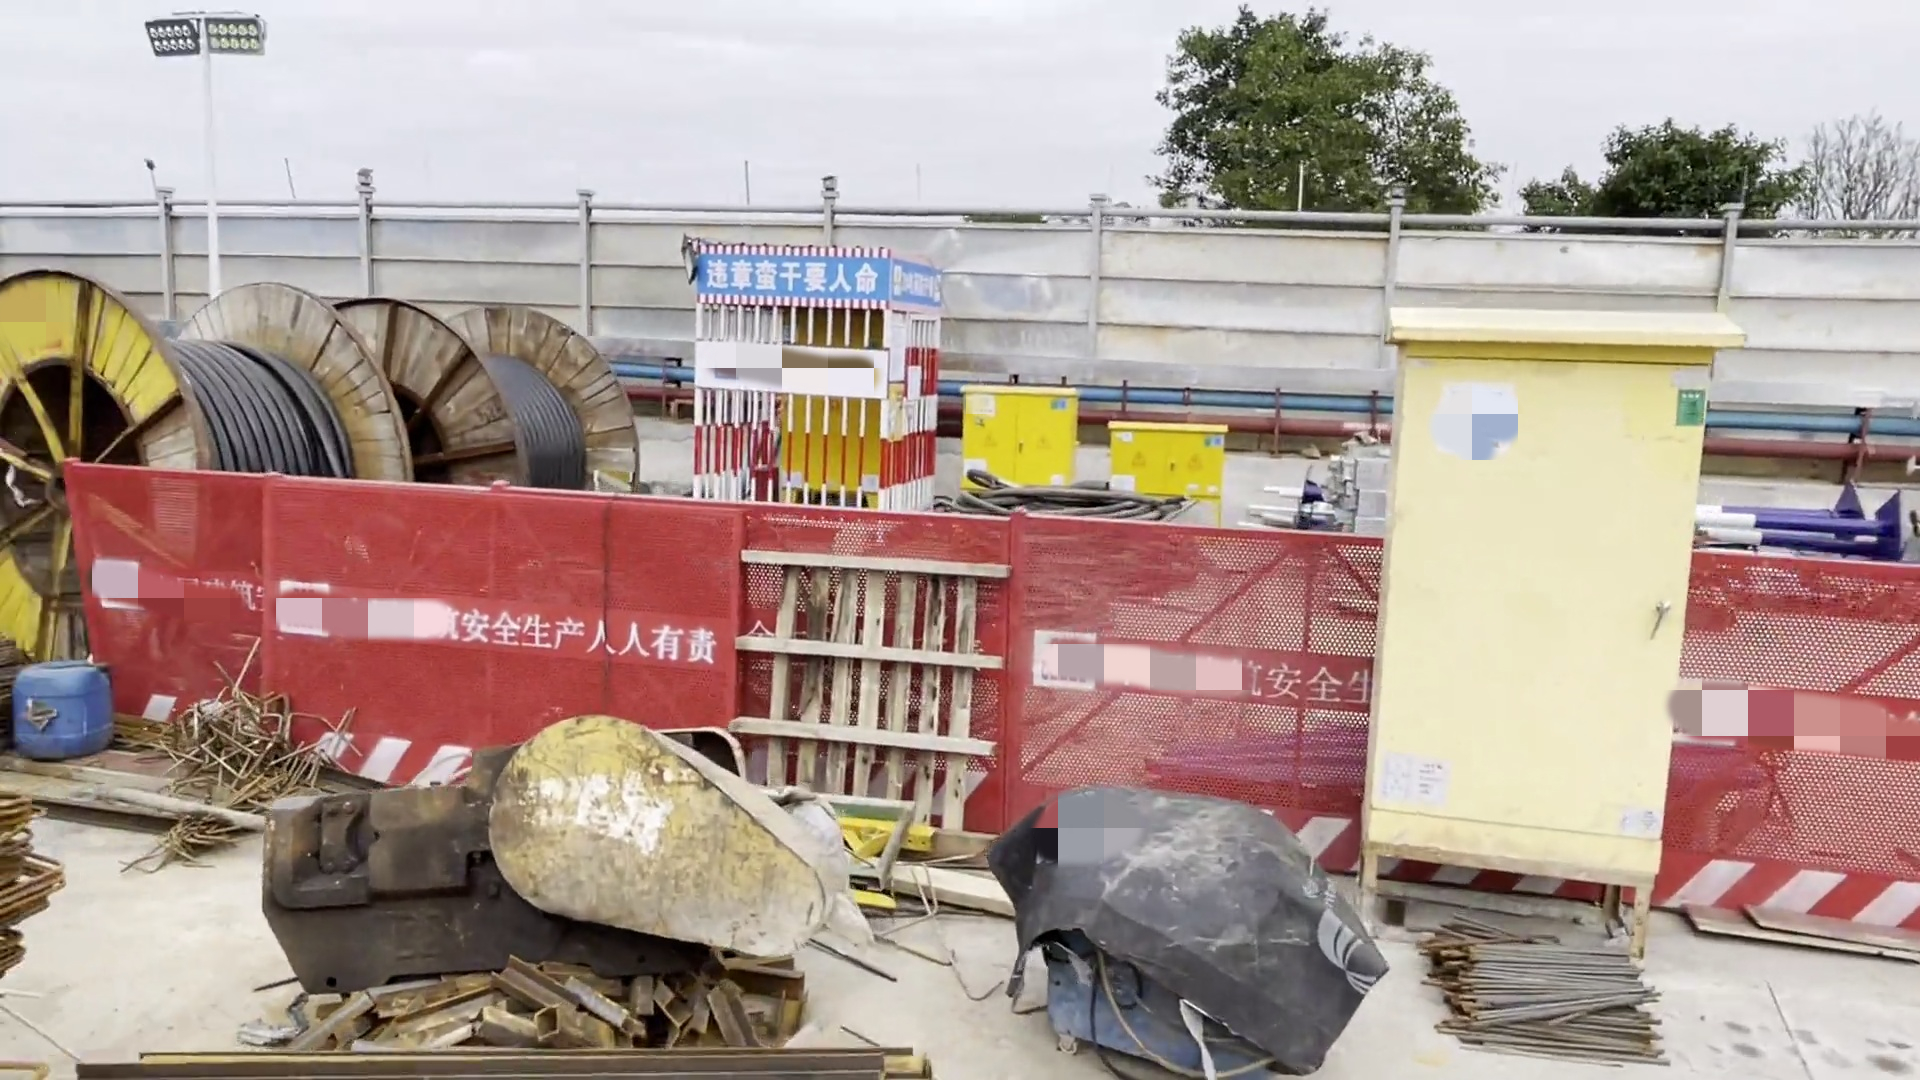ebox: (1366, 305, 1701, 876), (781, 303, 870, 489), (959, 380, 1065, 488), (1108, 423, 1221, 512)
fence: (741, 496, 1366, 858), (62, 458, 723, 750), (1675, 553, 1920, 934)
rebar: (1431, 922, 1669, 1069)
slogan: (700, 237, 880, 310)
